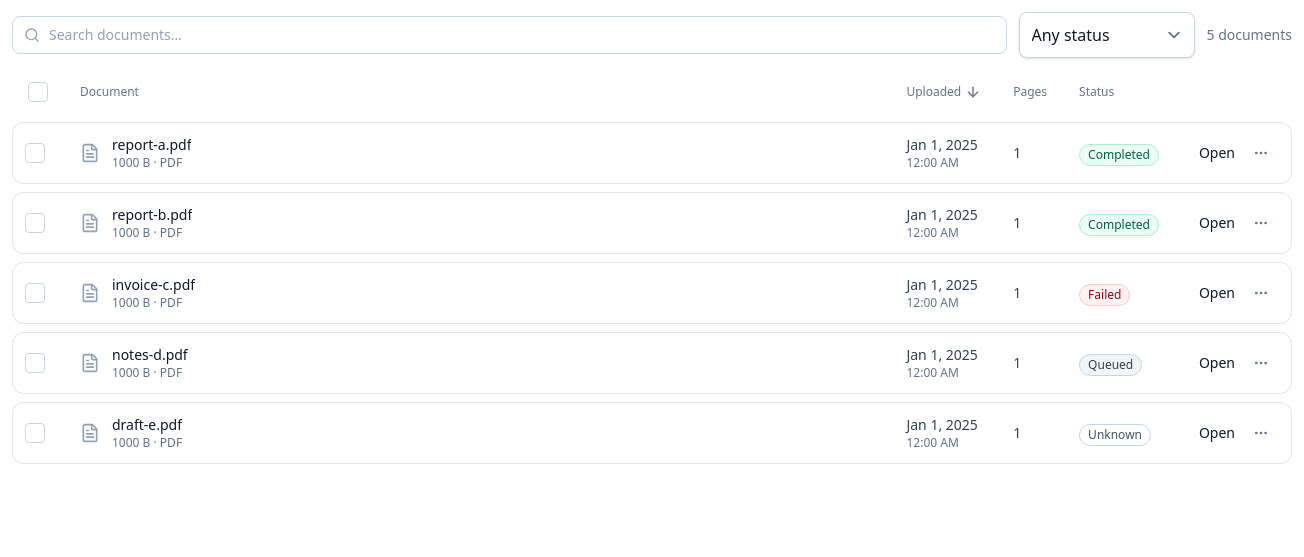
Test: clearing the selection hides the bulk bar
This screenshot has width=1304, height=557.
Click the checkbox named "Select report-a.pdf" at (35, 153), box [25,143,45,163]
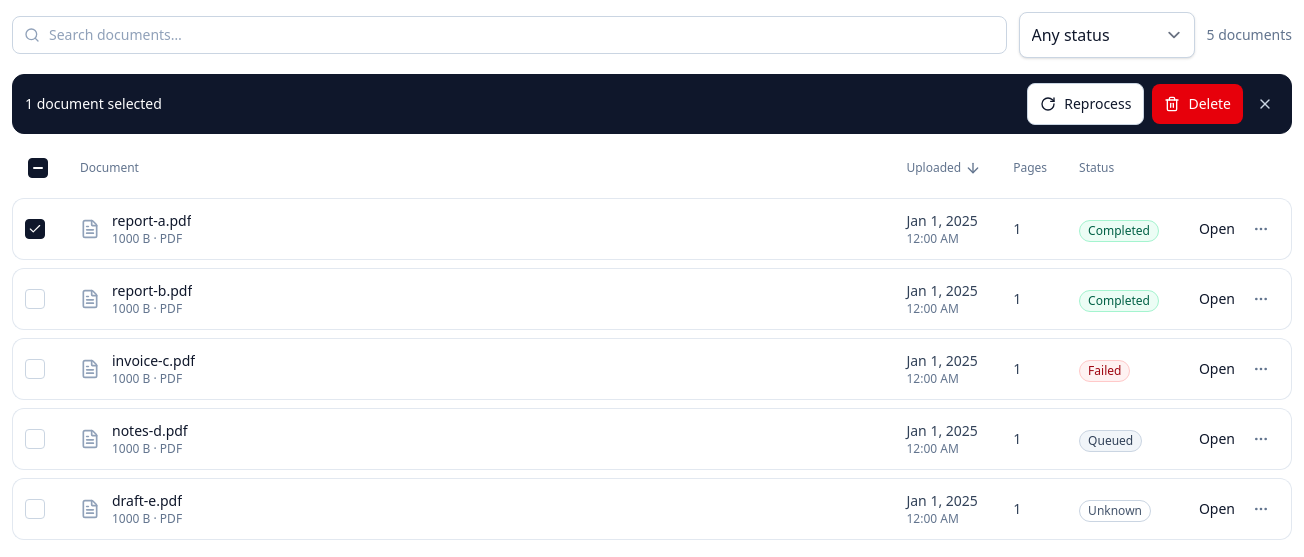
expect the text "1 document selected" is shown: met, box [25,94,162,114]
Click the button named "Clear selection" at (1265, 104), box [1251,90,1279,118]
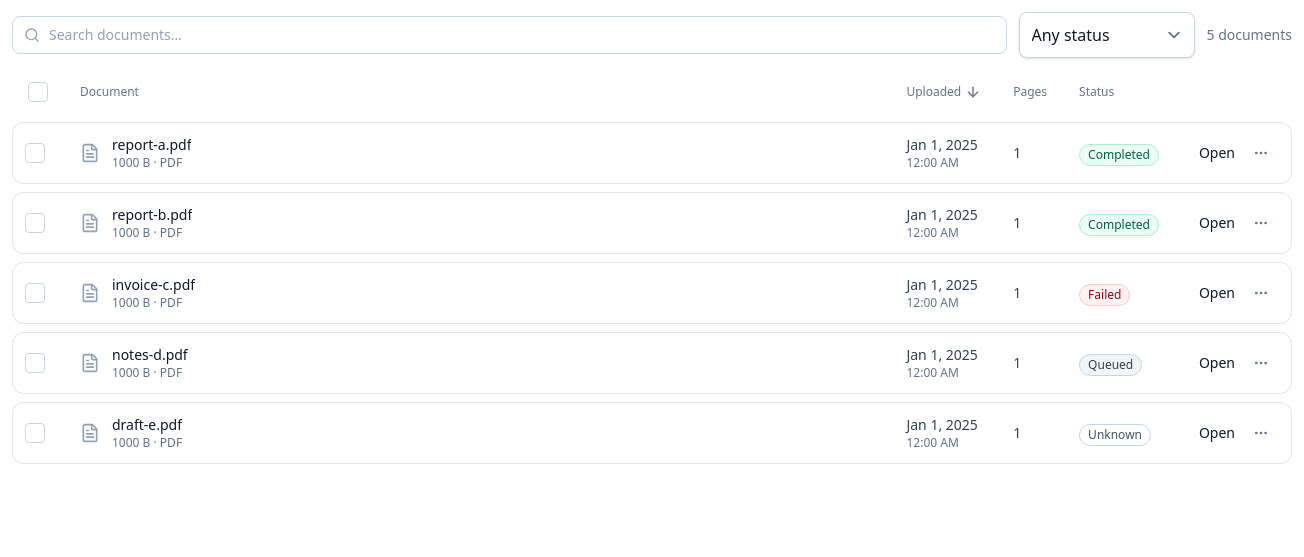
expect the text "1 document selected" is gone: met
